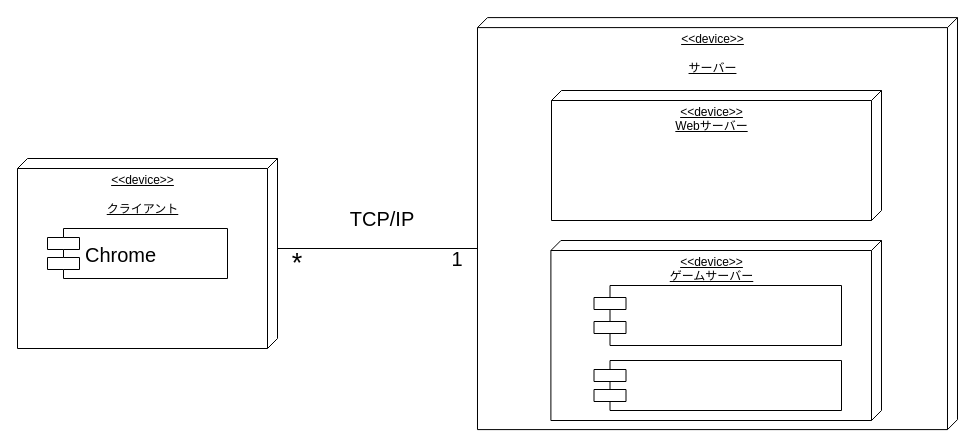
This 975x448 diagram has some shape labels left out. The centre of each missing label's shape, as x and y in pixels:
"オセロモジュール" goes at point 717,385.
"クライアント管理 モジュール" goes at point 717,315.
